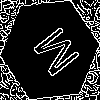M: (25, 25, 81, 85)
